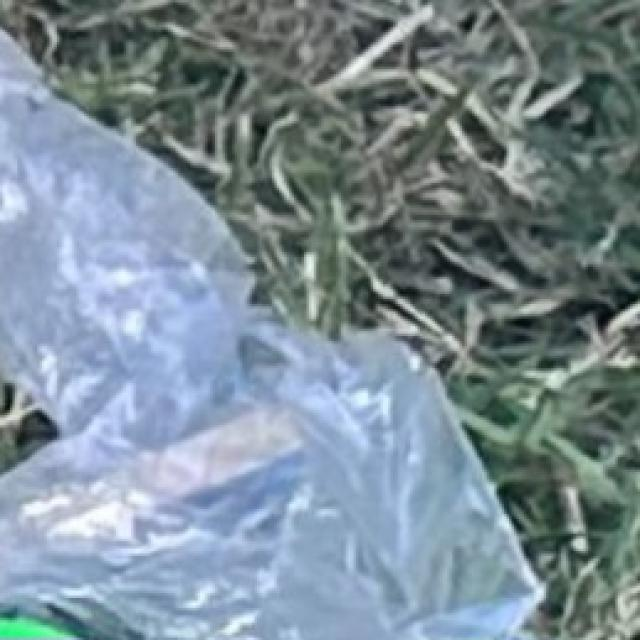plastic bag: (6, 7, 540, 621)
